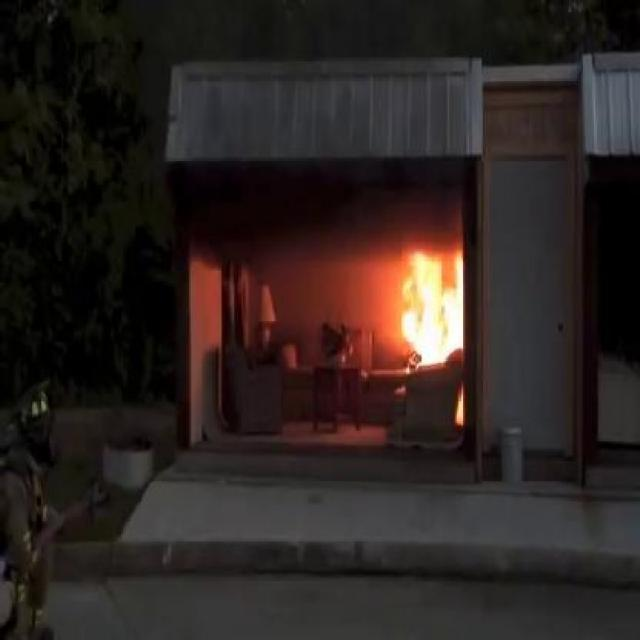fire: (400, 243, 471, 362)
smoke: (188, 154, 462, 238)
